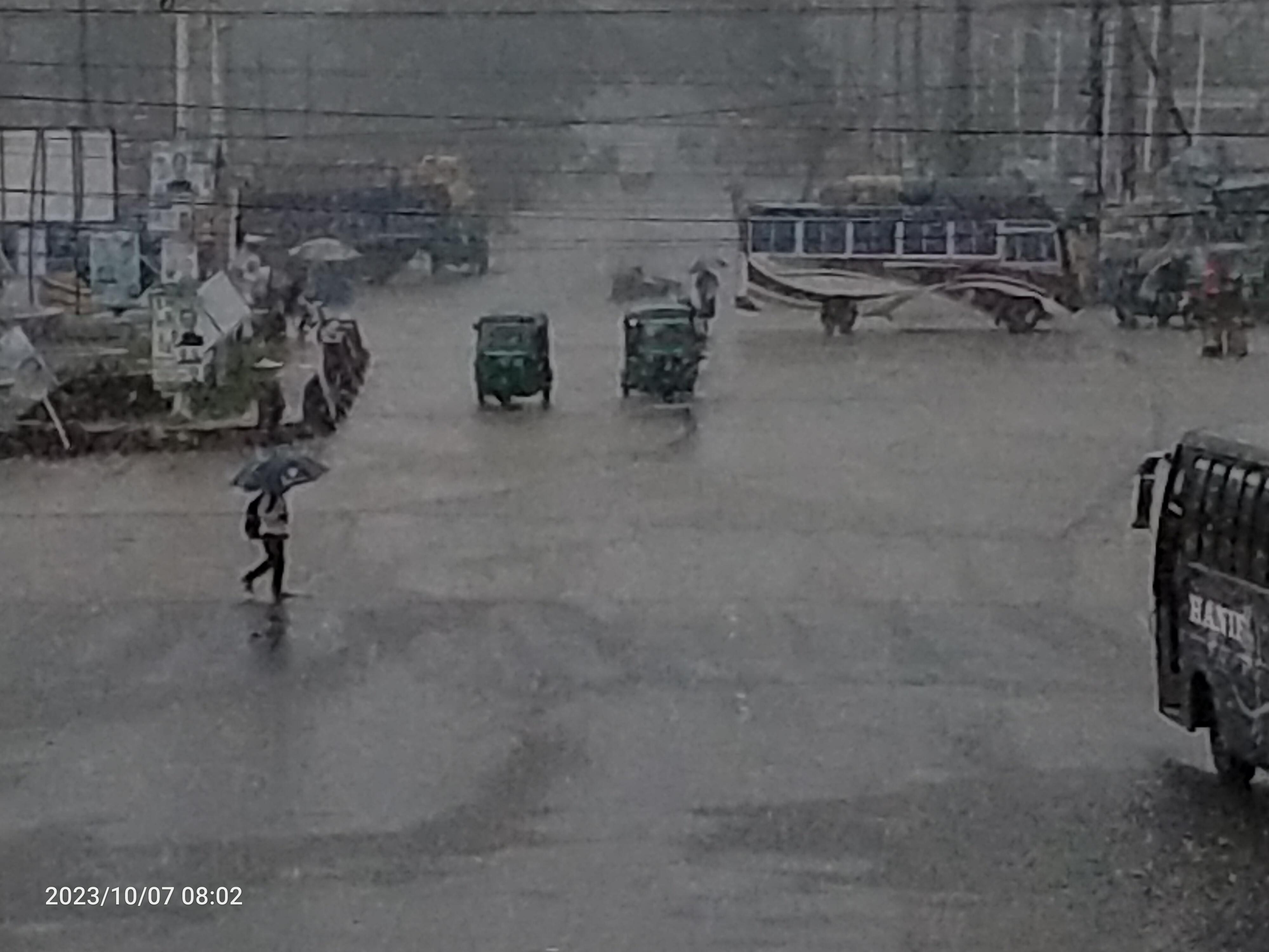Bike: (684, 246, 746, 334)
Bus: (724, 180, 1089, 367), (1109, 397, 1269, 814)
